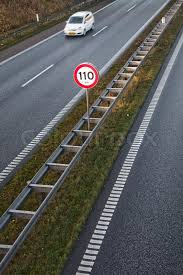Speed_limit_110km: (73, 63, 99, 90)
